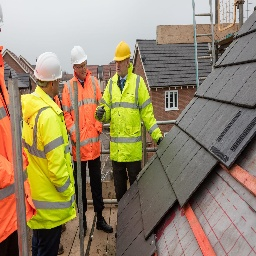helmet: (34, 54, 65, 85), (113, 42, 133, 67), (68, 46, 89, 67)
person: (20, 51, 74, 256), (60, 44, 104, 239), (100, 37, 148, 203)
vest: (22, 98, 71, 231), (106, 74, 146, 164), (64, 79, 100, 162)
